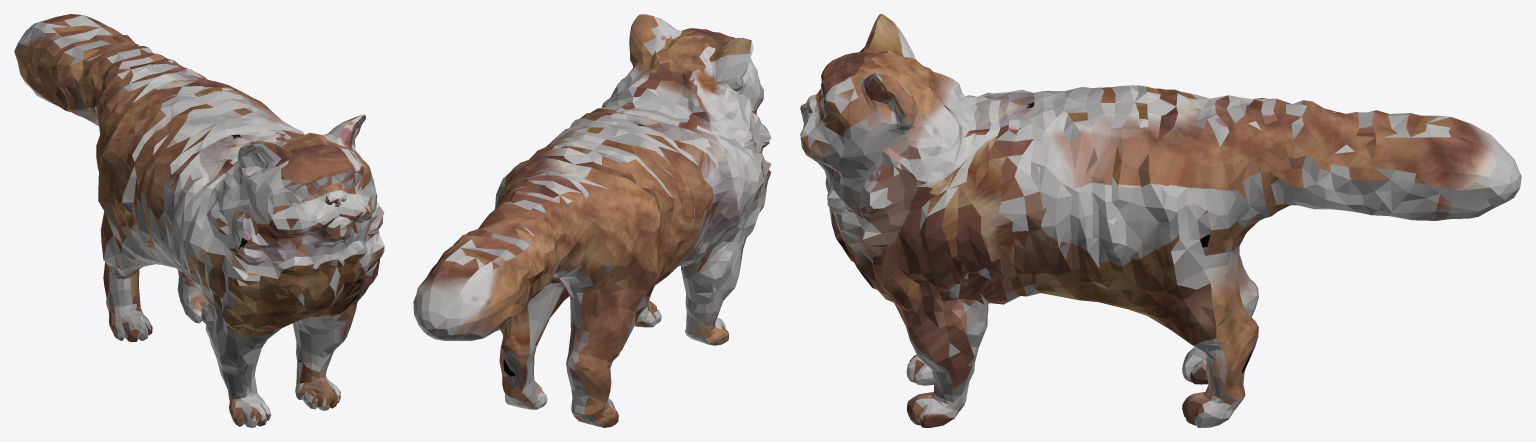
The model's file is Cymric(LonghairedManx).gltf.
3 renders of one model, left to right at view 1: azimuth 30°, elevation 25°; view 2: azimuth 150°, elevation 25°; view 3: azimuth 270°, elevation 25°, orthographic. The views are drawn at different scales.
Visible parts, largest first — view 1: Cat_Base_1.001; view 2: Cat_Base_1.001; view 3: Cat_Base_1.001.
Part boxes in pixels (bbox=[...]): Cat_Base_1.001: bbox=[14, 14, 384, 427]; Cat_Base_1.001: bbox=[413, 14, 771, 427]; Cat_Base_1.001: bbox=[800, 14, 1521, 427].
Bounding box in the file's own units: 2.4 × 3.71 × 6.84.
